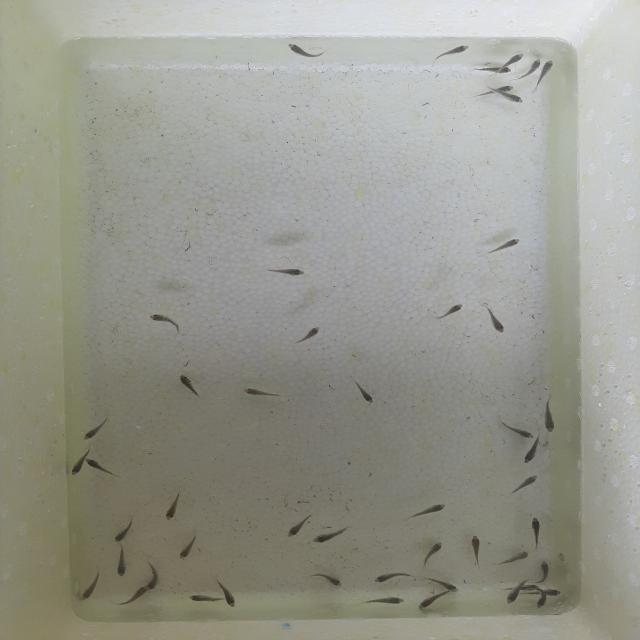fingerling: (525, 514, 552, 542), (485, 307, 504, 345), (463, 534, 491, 559), (364, 594, 407, 610), (501, 546, 528, 570), (419, 594, 453, 613), (82, 420, 111, 442), (241, 381, 275, 399), (509, 478, 540, 497), (87, 459, 119, 477), (213, 580, 236, 604), (179, 534, 200, 560), (288, 517, 315, 537), (154, 316, 184, 334), (421, 543, 443, 567), (128, 585, 155, 604), (489, 240, 521, 255), (426, 577, 458, 592), (82, 577, 102, 600), (296, 331, 323, 348), (112, 547, 128, 575), (484, 83, 518, 96), (319, 572, 346, 588), (180, 376, 201, 396), (113, 525, 133, 546), (477, 64, 512, 76), (316, 533, 348, 546), (146, 562, 160, 591), (354, 384, 374, 404), (521, 60, 541, 80), (539, 56, 558, 77), (288, 44, 316, 58), (499, 424, 527, 438), (166, 498, 183, 521), (526, 440, 542, 464), (369, 573, 403, 584), (438, 305, 463, 319), (506, 588, 524, 607), (504, 51, 525, 67), (268, 268, 304, 277), (187, 591, 210, 605), (416, 508, 445, 519), (504, 93, 525, 108), (438, 46, 468, 56), (539, 562, 553, 582), (544, 582, 562, 597), (544, 410, 555, 433), (70, 457, 82, 478), (532, 593, 547, 607)
